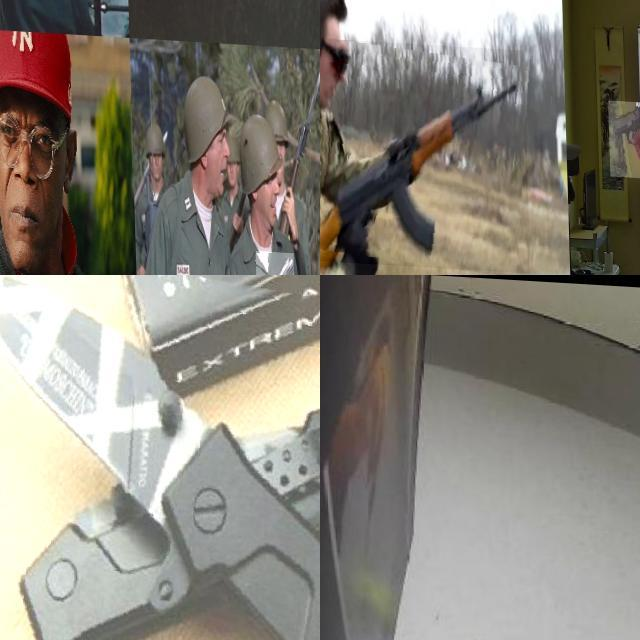-: (0, 275, 320, 640)
gun-knife-thesis - v11 Yolov5 augmented: (320, 35, 526, 270), (322, 0, 517, 165), (126, 0, 277, 131), (0, 95, 35, 275), (605, 95, 640, 174), (252, 245, 292, 275), (0, 0, 16, 26)
